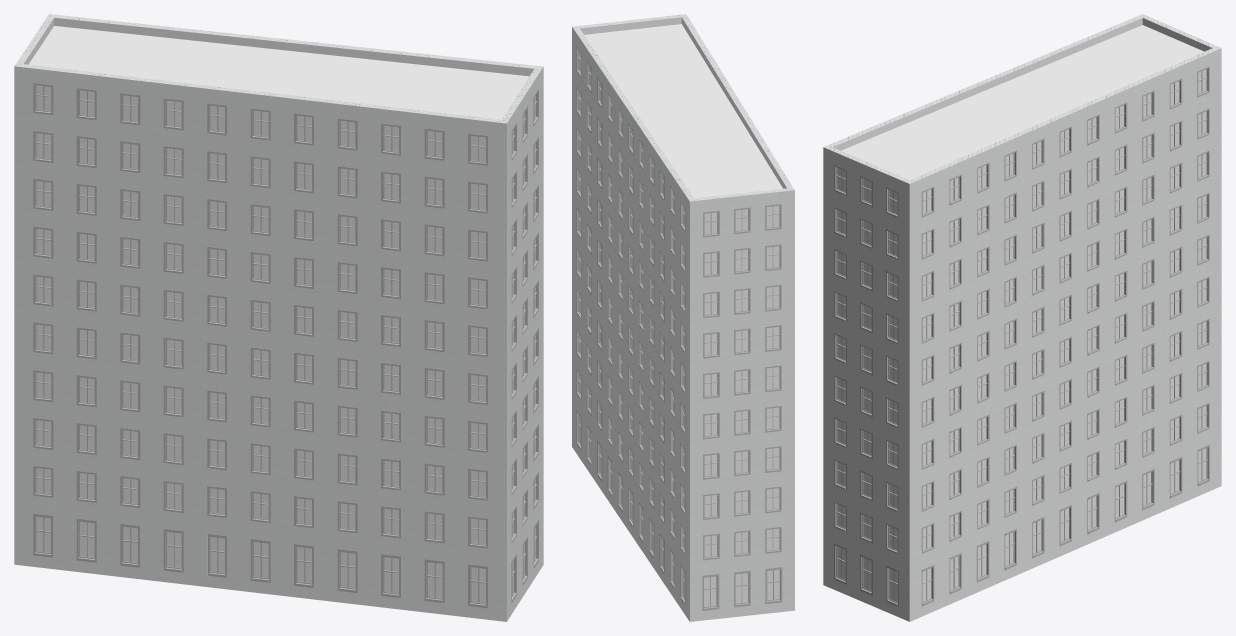
The model's file is clohc2kma03ip4p020fzh18m5_0.glb.
The picture shows the model from 3 angles, left to right: view 1: azimuth 30°, elevation 25°; view 2: azimuth 150°, elevation 25°; view 3: azimuth 270°, elevation 25°; orthographic projection. The views are drawn at different scales.
Visible parts, largest first — view 1: mesh_Brick, mesh_Rim, mesh_Glass, mesh_CityEnginePBRShader; view 2: mesh_Brick, mesh_Rim, mesh_CityEnginePBRShader, mesh_Glass; view 3: mesh_Brick, mesh_Rim, mesh_Glass, mesh_CityEnginePBRShader.
Part boxes in pixels (bbox=[...]): mesh_Brick: bbox=[14, 14, 543, 621]; mesh_Rim: bbox=[33, 83, 538, 608]; mesh_Glass: bbox=[36, 85, 535, 603]; mesh_CityEnginePBRShader: bbox=[28, 26, 529, 119]; mesh_Brick: bbox=[572, 14, 794, 621]; mesh_Rim: bbox=[576, 46, 782, 610]; mesh_CityEnginePBRShader: bbox=[584, 24, 782, 198]; mesh_Glass: bbox=[579, 52, 779, 606]; mesh_Brick: bbox=[823, 14, 1221, 621]; mesh_Rim: bbox=[834, 66, 1209, 606]; mesh_Glass: bbox=[837, 69, 1206, 602]; mesh_CityEnginePBRShader: bbox=[841, 25, 1203, 179].
Size of the model in its own units: 30.96 by 37.18 by 30.66.
Materials: 4 (1 with a texture image).
